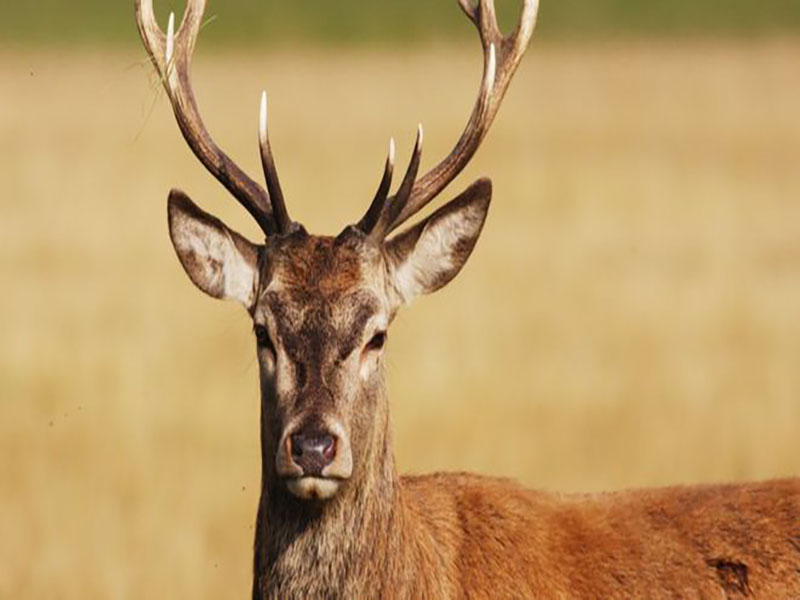cervo: (130, 1, 792, 597)
